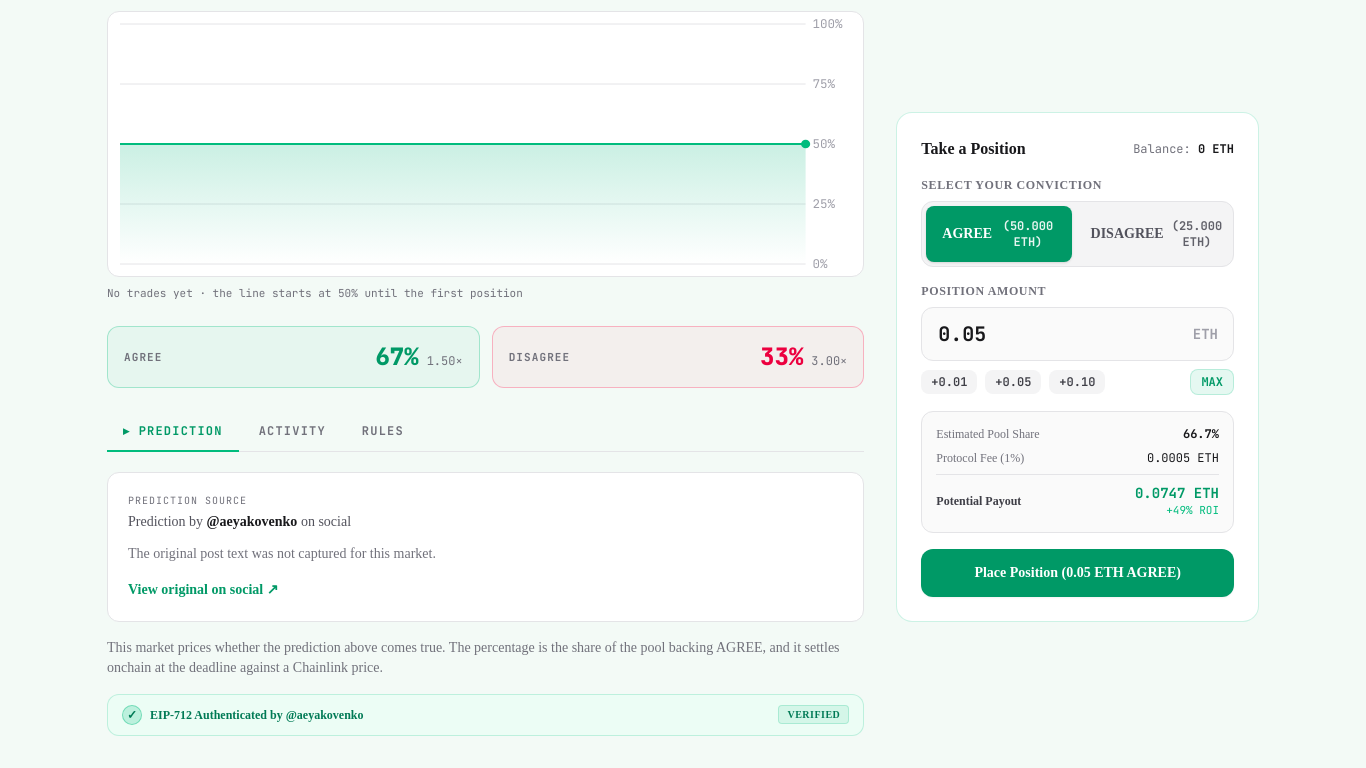
Scenario: Market Detail Page (/market/[id]) › renders market detail page with loaded data
(page scrolled)
Expected: the text "67%" is shown, [375,341,419,373]
Expected: the text "33%" is shown, [760,341,803,373]
Click the tab "rules": (383, 432) [346,412,420,452]
(page scrolled)
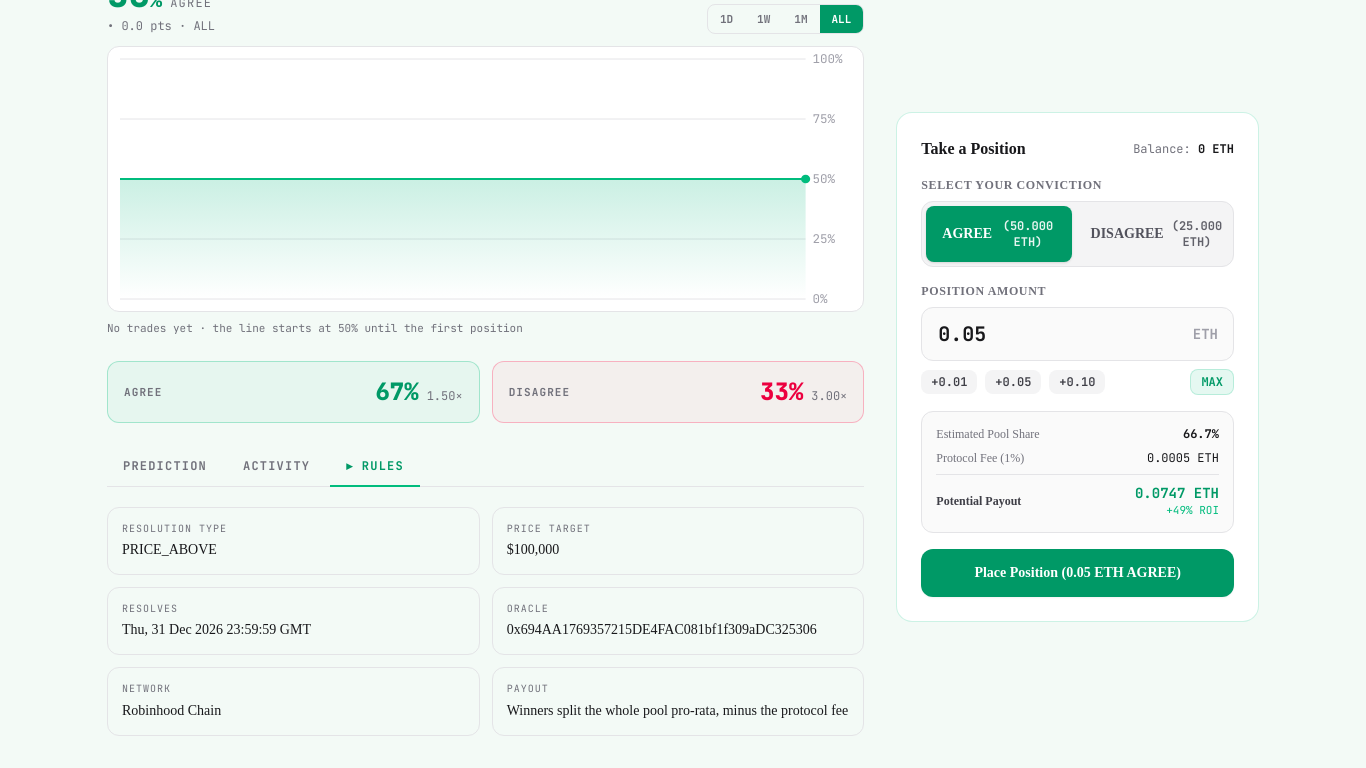
Expected: the button with aria-label "Select AGREE side" is shown, [926,206,1072,262]
Result: the text "$100,000" is shown at [507,542,559,557]
